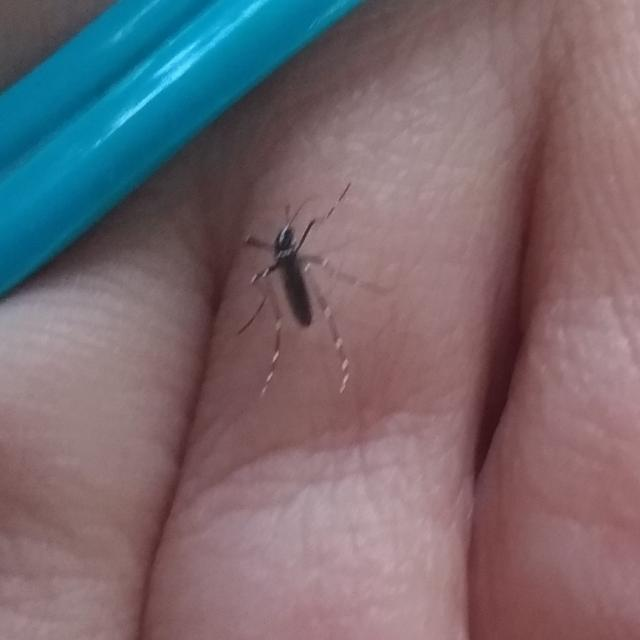albopictus: (217, 172, 370, 408)
